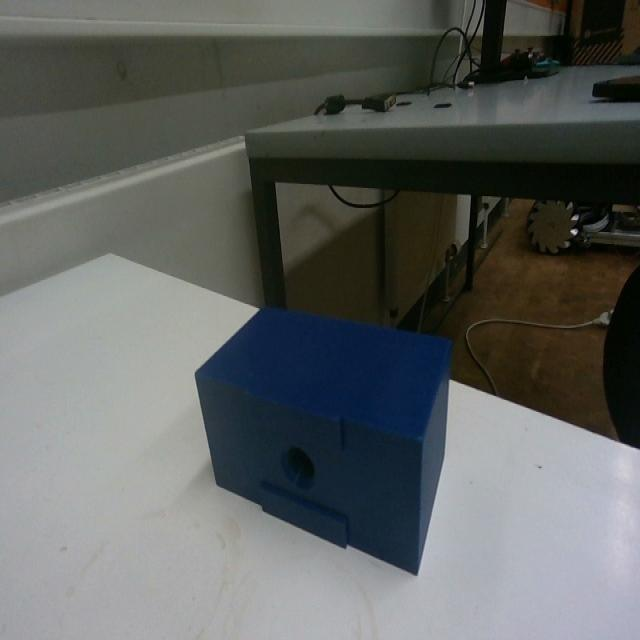Blue Cuboid: (192, 300, 455, 576)
